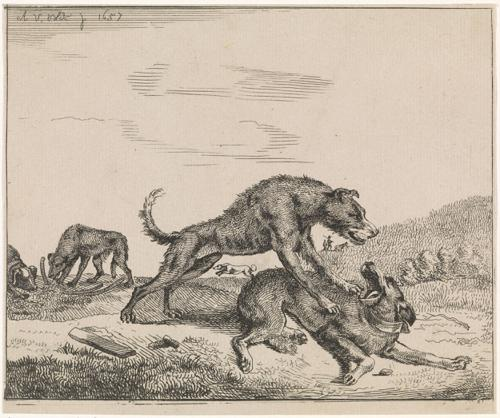dog: (115, 172, 378, 326), (235, 261, 468, 380), (46, 224, 136, 289)
